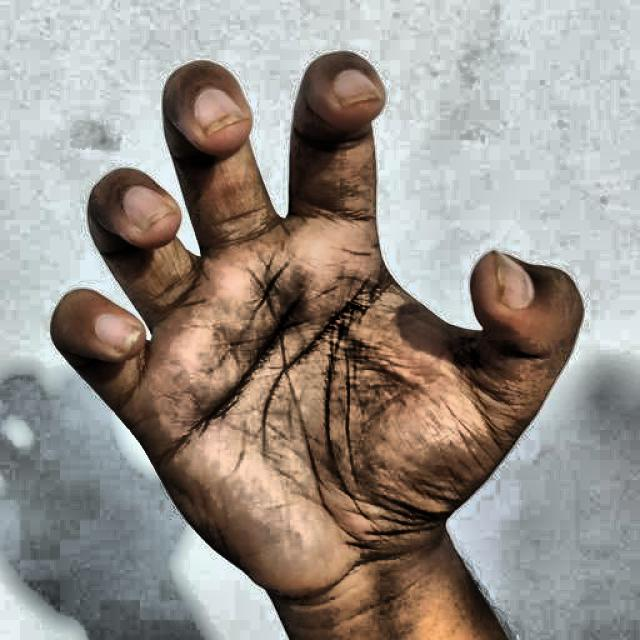Ja: (36, 22, 604, 640)
